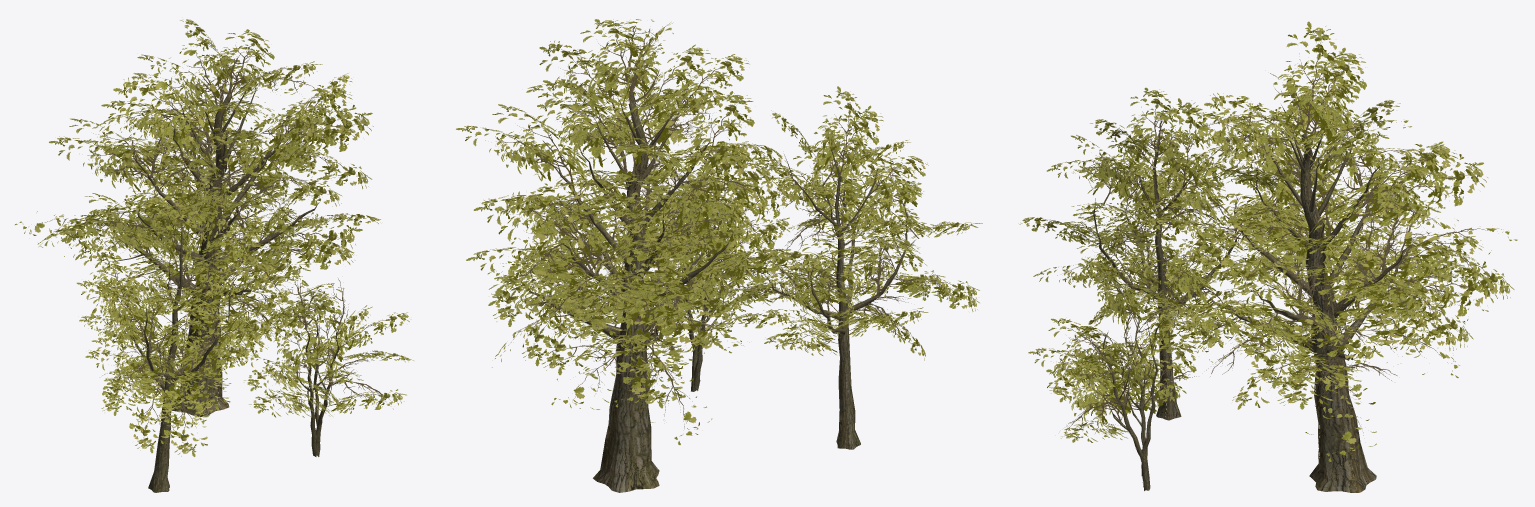
Rendered from arbol.glb.
3 views of the same model, side by side, from view 1: azimuth 30°, elevation 25°; view 2: azimuth 150°, elevation 25°; view 3: azimuth 270°, elevation 25° (orthographic). The views are drawn at different scales.
Parts seen in each view (by area): view 1: arbol; view 2: arbol; view 3: arbol.
Part boxes in pixels (left/top/right/bottom): arbol: left=15, top=19, right=413, bottom=492; arbol: left=456, top=19, right=982, bottom=492; arbol: left=1019, top=21, right=1517, bottom=492.
Bounding box in the file's own units: 6.27 × 6.5 × 6.61.
2 materials, 2 textured.
